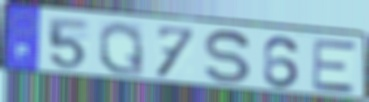5: (46, 16, 92, 71)
6: (261, 33, 301, 90)
7: (154, 24, 197, 80)
E: (311, 39, 358, 95)
Q: (97, 20, 147, 78)
S: (203, 28, 253, 87)
